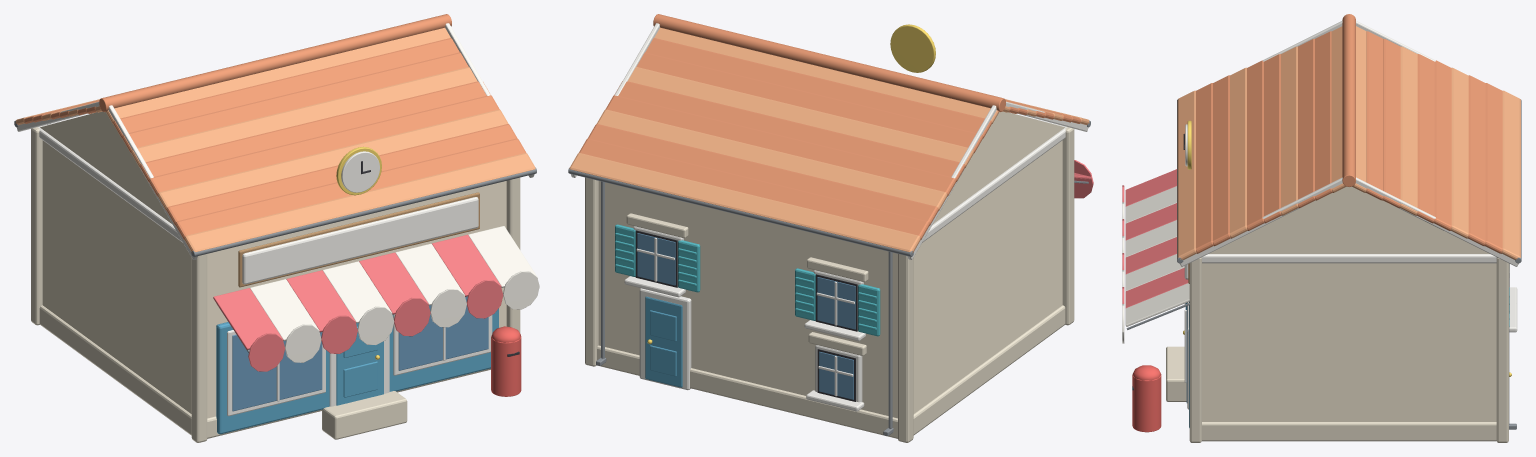
The model's file is post_office.fbx.
The picture shows the model from 3 angles, left to right: view 1: azimuth 30°, elevation 25°; view 2: azimuth 150°, elevation 25°; view 3: azimuth 270°, elevation 25°; orthographic projection. The views are drawn at different scales.
Visible parts, largest first — view 1: Visual; view 2: Visual; view 3: Visual.
Boxes of the visible parts, box(x1,y1,x2,y2) form: Visual: box(14, 14, 539, 442); Visual: box(568, 14, 1093, 442); Visual: box(1122, 14, 1521, 442).
Size of what is drawn, in the model's own units: 1000 by 842 by 1046.
